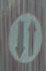Two way: (6, 2, 40, 66)
